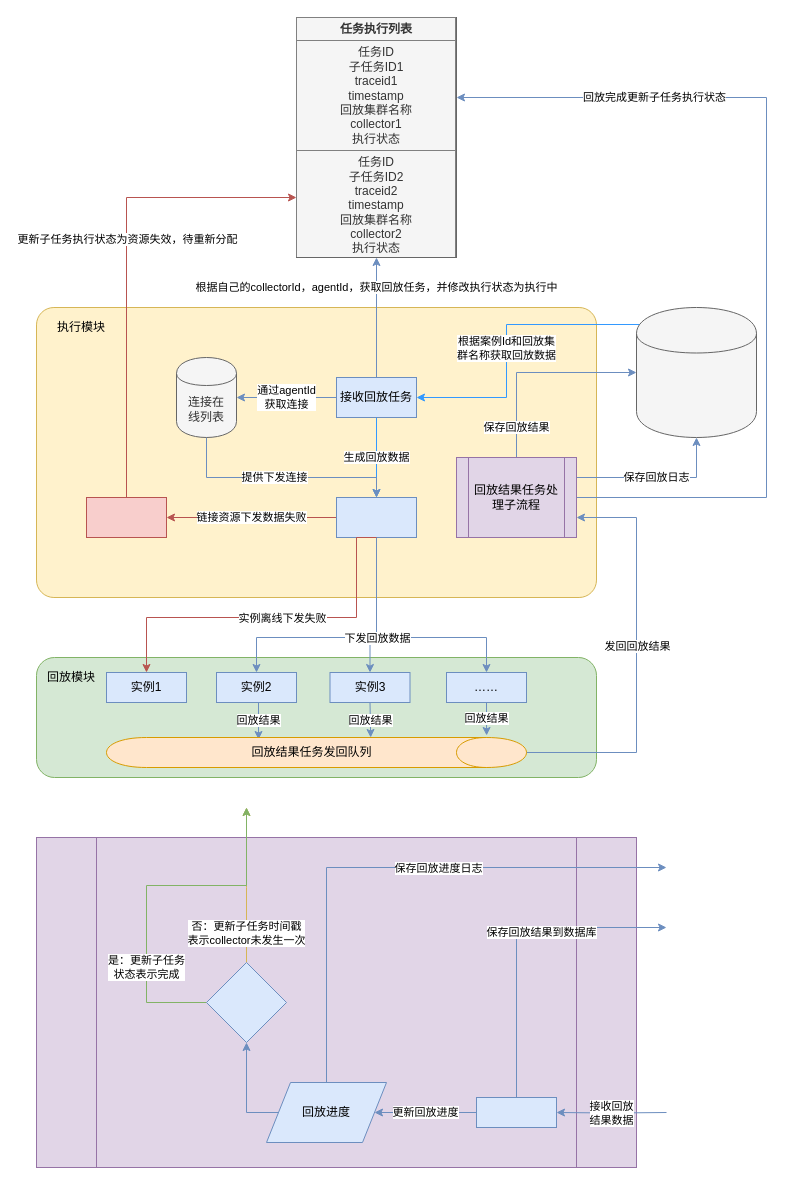
Image size: 792x1185. Some labels were removed from this diagram. Each missing label, with the centre of its shape:
回放是否完成: the point at 246,1002
按照资源和案例配发回放数据: the point at 376,517
接收回放结果: the point at 516,1112
数据库: the point at 696,372
更新任务表: the point at 126,517
